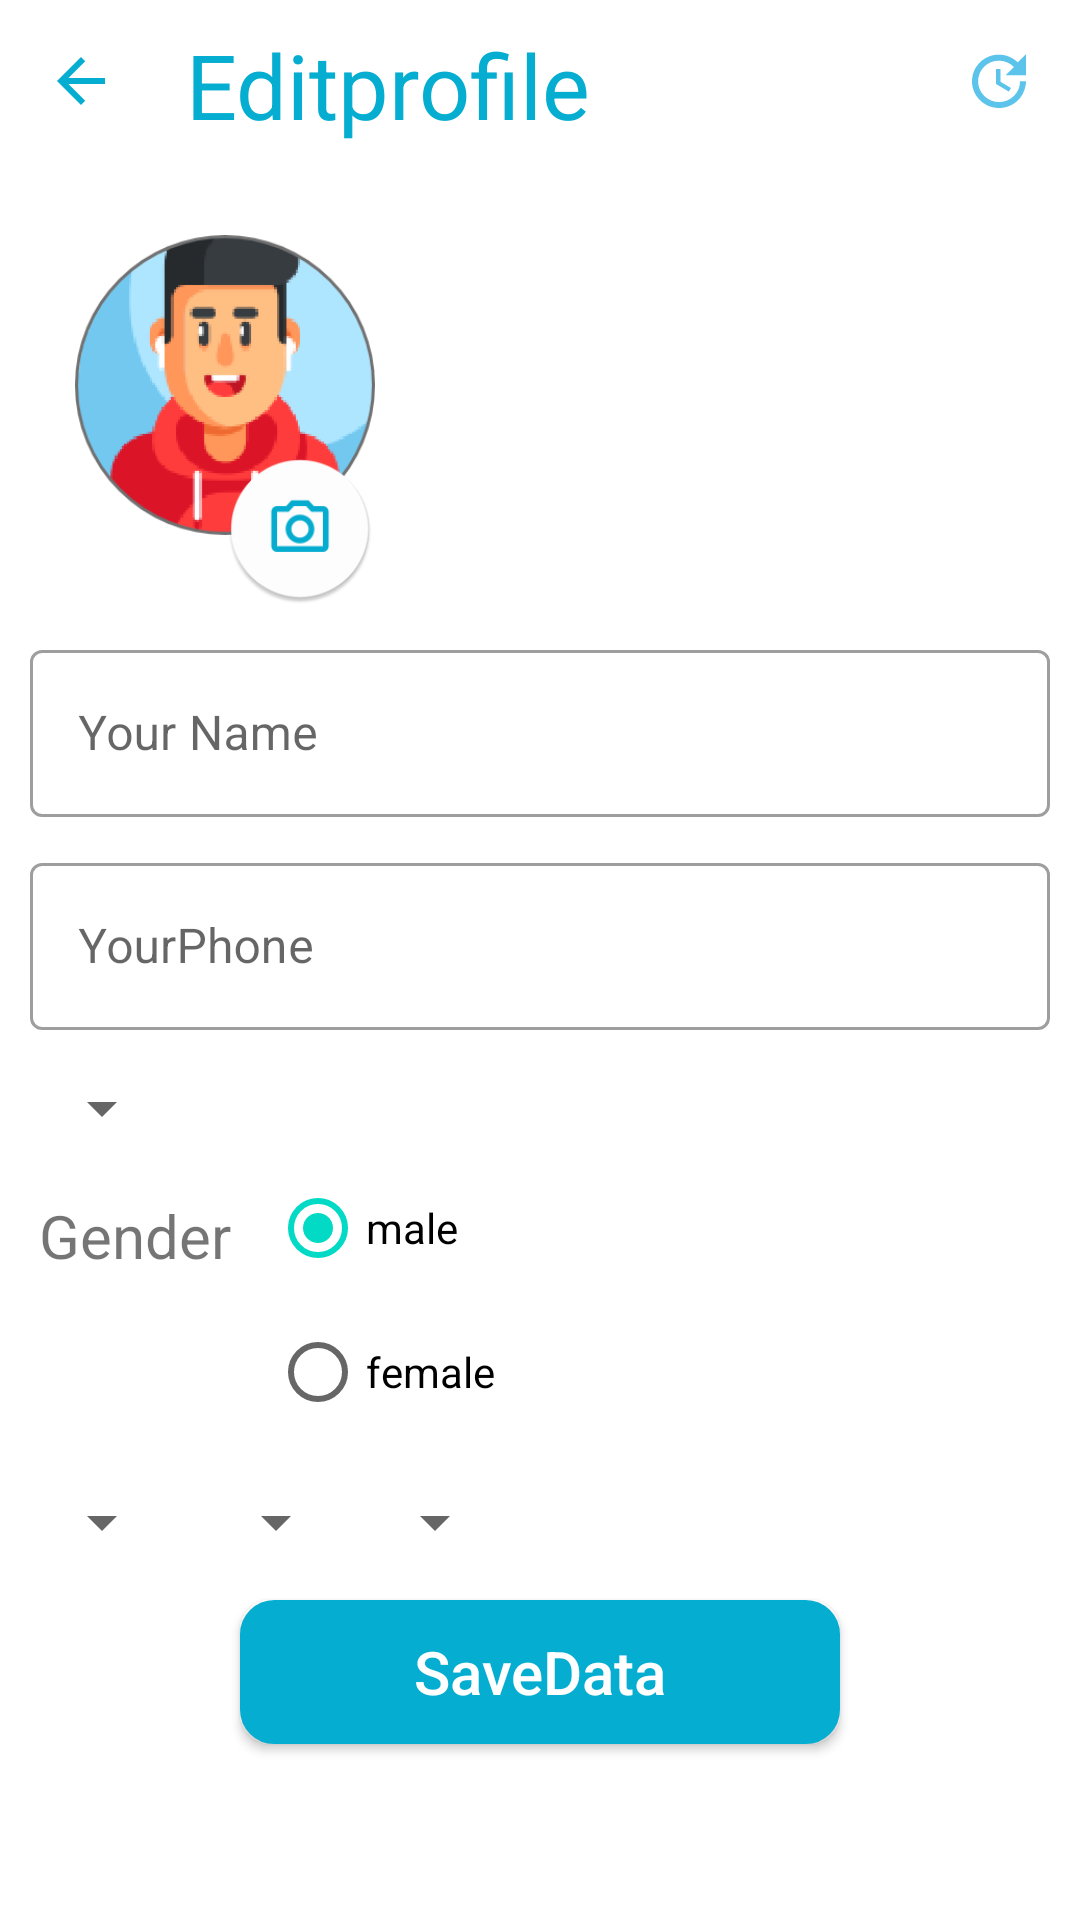

Icon bounding boxes for this 1080 × 1920 phone screenshot, format (x1, y1, x2, y2):
arrow back: (57, 57, 105, 105)
update: (972, 54, 1026, 108)
